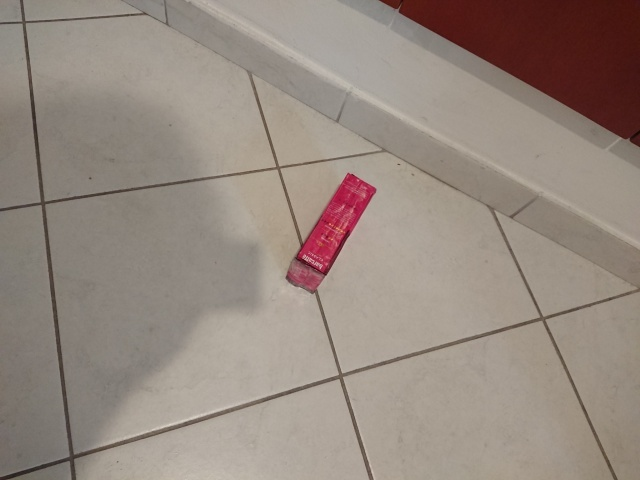Barcaffe Classic Original 225g: (284, 171, 379, 296)
